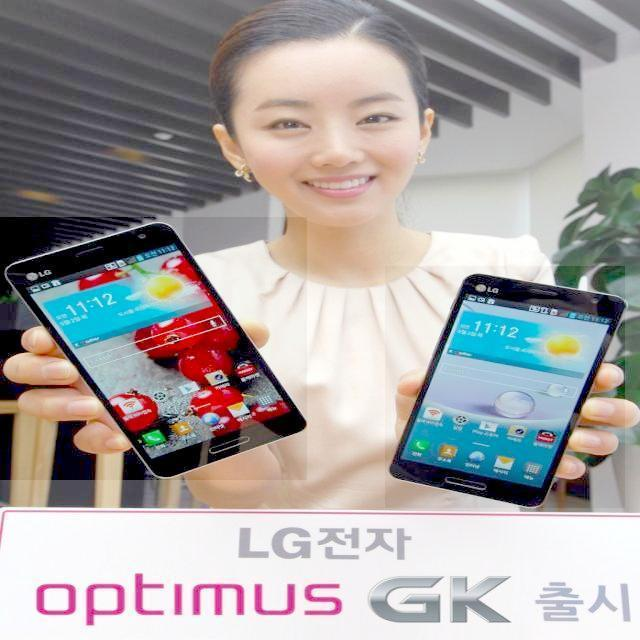Smartphone: (0, 207, 317, 488), (385, 263, 633, 516)
